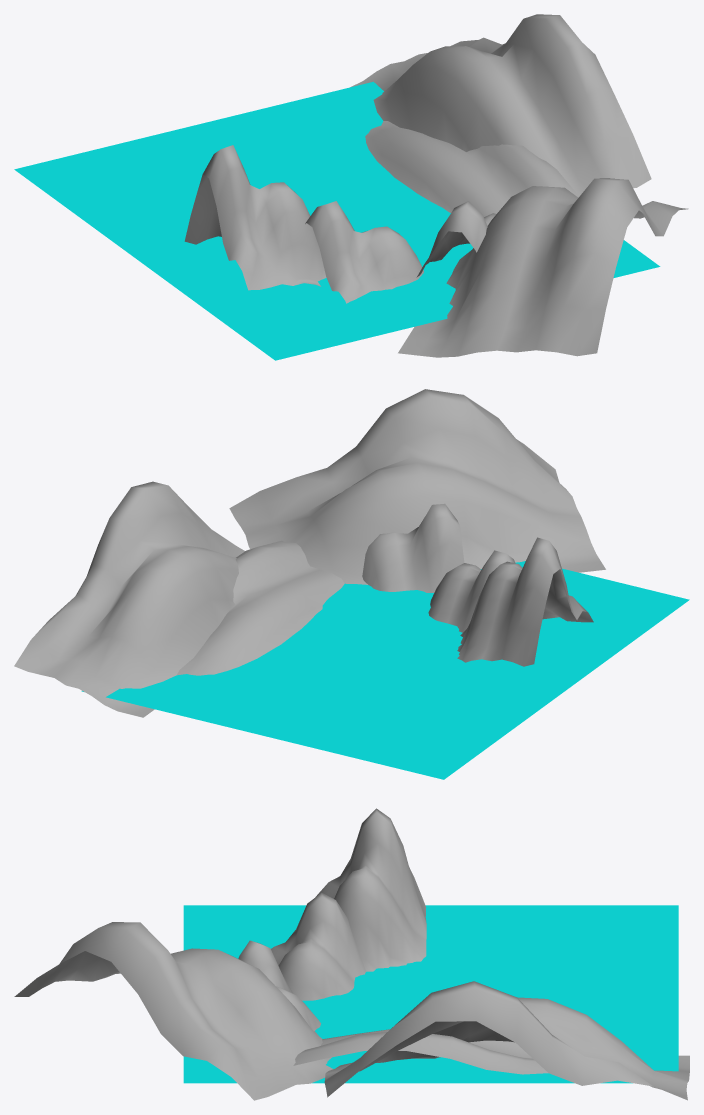
The model's file is Caves_All_01.fbx.
3 views of the same model, one above another, from view 1: azimuth 30°, elevation 25°; view 2: azimuth 150°, elevation 25°; view 3: azimuth 270°, elevation 25° (orthographic). The views are drawn at different scales.
Visible parts, largest first — view 1: pPlane23; view 2: pPlane23; view 3: pPlane23.
Part boxes in pixels (left/top/right/bottom): pPlane23: left=14, top=14, right=688, bottom=360; pPlane23: left=14, top=389, right=689, bottom=779; pPlane23: left=14, top=808, right=689, bottom=1100.
Size of the model in its own units: 10162 by 3207 by 13835.
